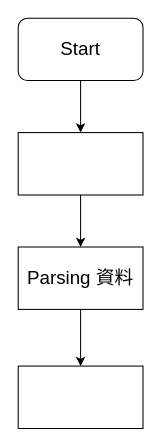
The diagram is 161 pixels wide and 447 high, and some of its shapes have lost their labels. The shapes that lost their labels are listed below. From the top down, each one's centre as x and y in pixels, then its label:
At (80,163): "選取檔案(CSV)".
At (80,396): "產生圖表".
